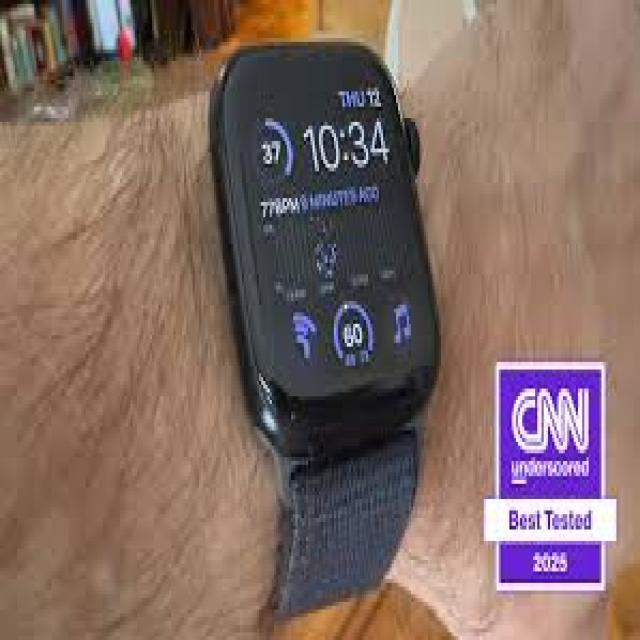objects: (208, 42, 437, 610)
